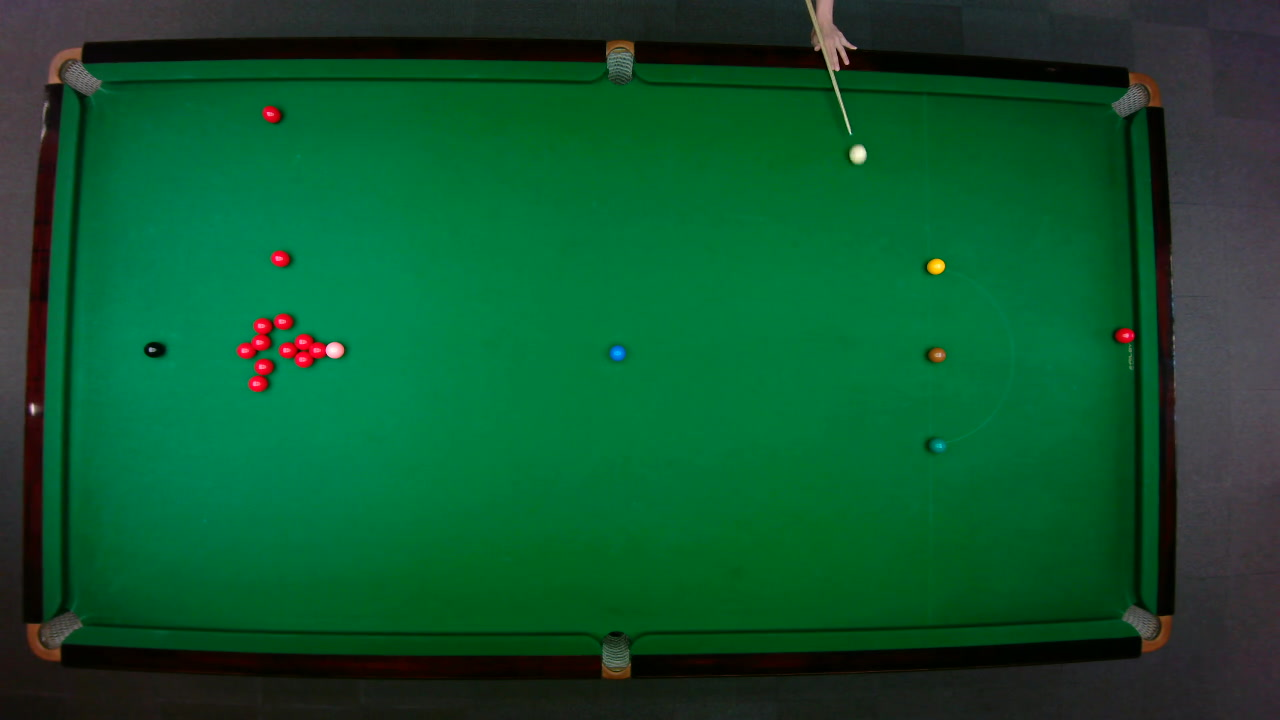bag: (25, 609, 84, 661), (45, 46, 102, 96), (1119, 603, 1171, 652), (1108, 71, 1161, 118), (600, 629, 630, 680), (605, 38, 633, 85)
black: (143, 340, 164, 357)
blue: (608, 344, 626, 361)
brown: (926, 346, 946, 362)
cue: (806, 0, 852, 134)
green: (927, 435, 946, 453)
pink: (323, 340, 345, 359)
red: (260, 104, 282, 123), (246, 374, 268, 392), (252, 357, 274, 375), (234, 340, 256, 358), (269, 249, 290, 267), (1113, 326, 1135, 343), (252, 316, 272, 334), (277, 340, 297, 358), (249, 333, 270, 350), (272, 312, 293, 329), (293, 350, 314, 367), (293, 332, 313, 349), (308, 340, 325, 359)
white: (846, 143, 868, 164)
yellow: (925, 257, 946, 274)
zone: (926, 267, 1013, 445)
